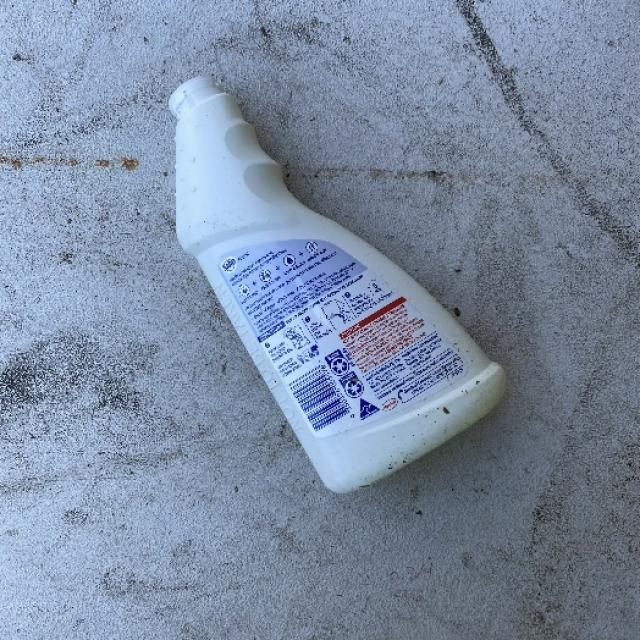plastic: (167, 74, 506, 494)
